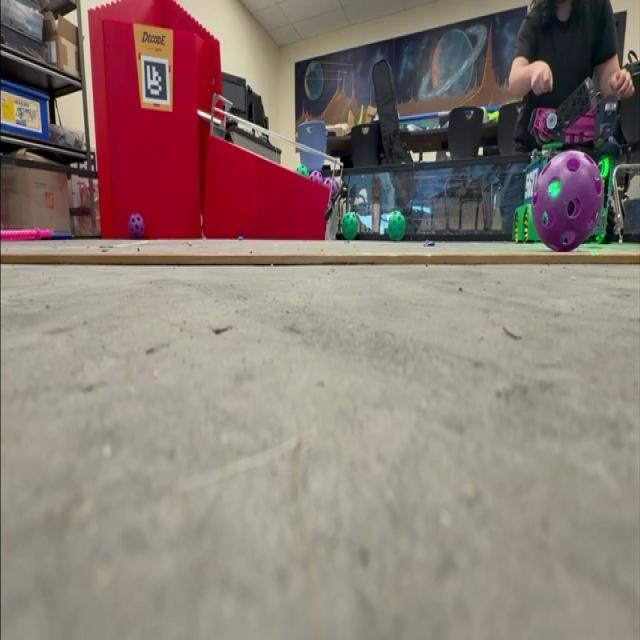artifact_green: (388, 211, 406, 241), (342, 212, 358, 241), (297, 164, 310, 177), (543, 211, 548, 226)
artifact_purple: (533, 151, 604, 251), (129, 214, 145, 238), (324, 176, 339, 198), (310, 171, 323, 183), (0, 222, 3, 230)
